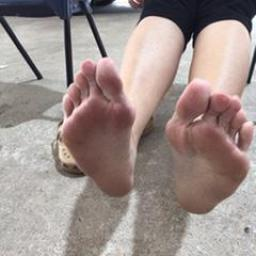Plantar View -Both Feet-: (50, 47, 255, 234)
